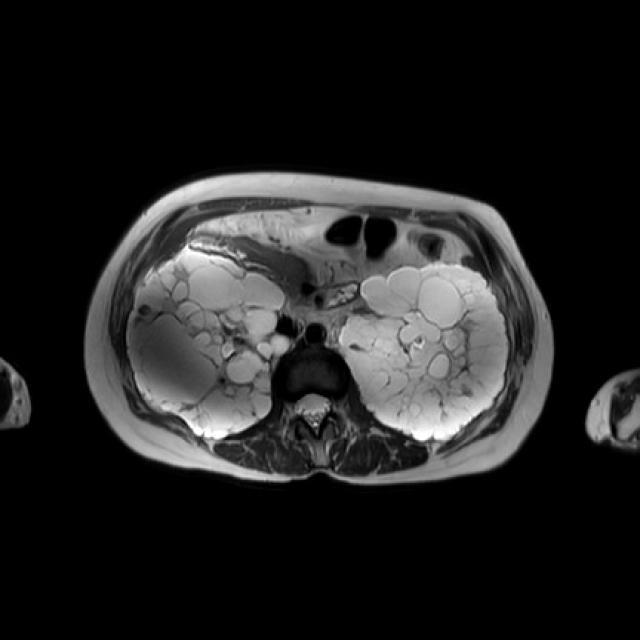sag: (127, 249, 289, 438)
sol: (340, 262, 512, 438)
